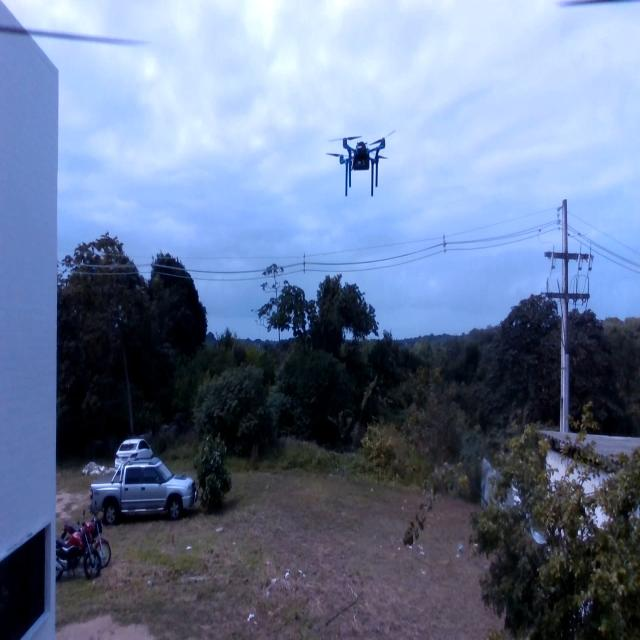-uav-: (322, 108, 402, 213)
